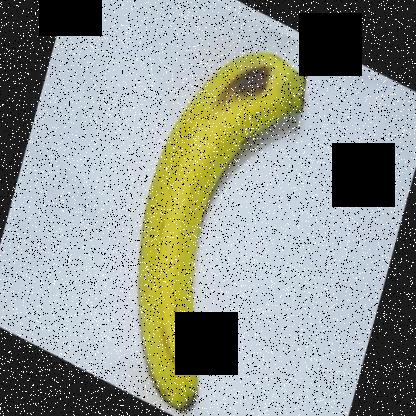freshripe: (118, 35, 321, 415)
